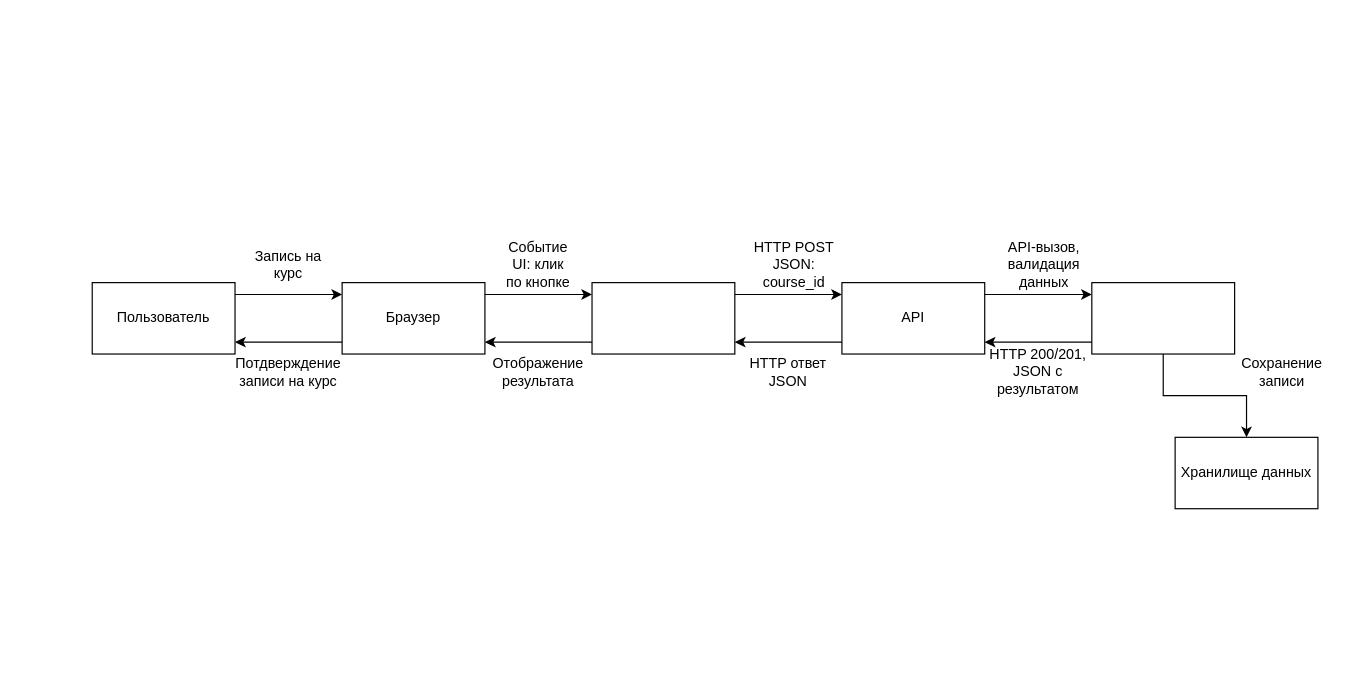
This 1349x695 diagram has some shape labels left out. The shapes that lost their labels are listed below. From the top down, each one's centre as x and y in pixels, then its label:
[663,317]: Fronted
[1163,317]: Backend
